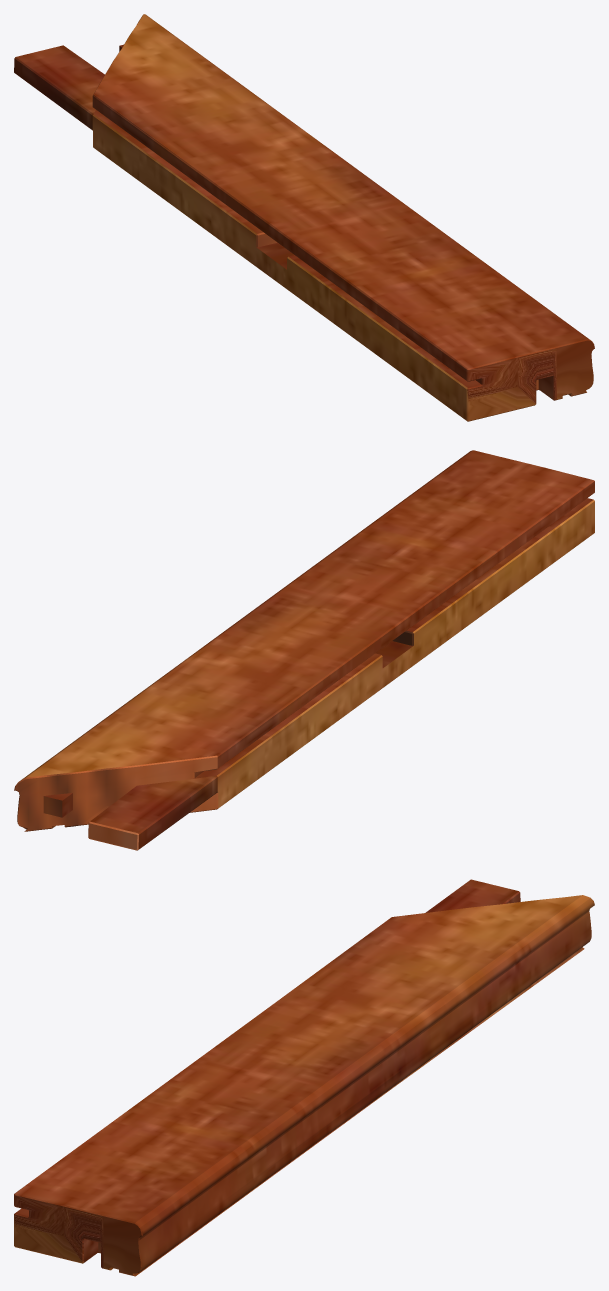
Rendered from baxianzhuo_J_dabian_02.FBX.
3 renders of one model, top to bottom at view 1: azimuth 30°, elevation 25°; view 2: azimuth 150°, elevation 25°; view 3: azimuth 330°, elevation 25°, orthographic.
Parts seen in each view (by area): view 1: baxianzhuo_J_dabian_02; view 2: baxianzhuo_J_dabian_02; view 3: baxianzhuo_J_dabian_02.
Boxes of the visible parts, x1,y1,x2,y2 form: baxianzhuo_J_dabian_02: (14, 14, 594, 421); baxianzhuo_J_dabian_02: (14, 450, 594, 850); baxianzhuo_J_dabian_02: (14, 879, 594, 1276).
Size of the model in its own units: 8 by 3.2 by 49.07.
2 materials, 2 textured.
